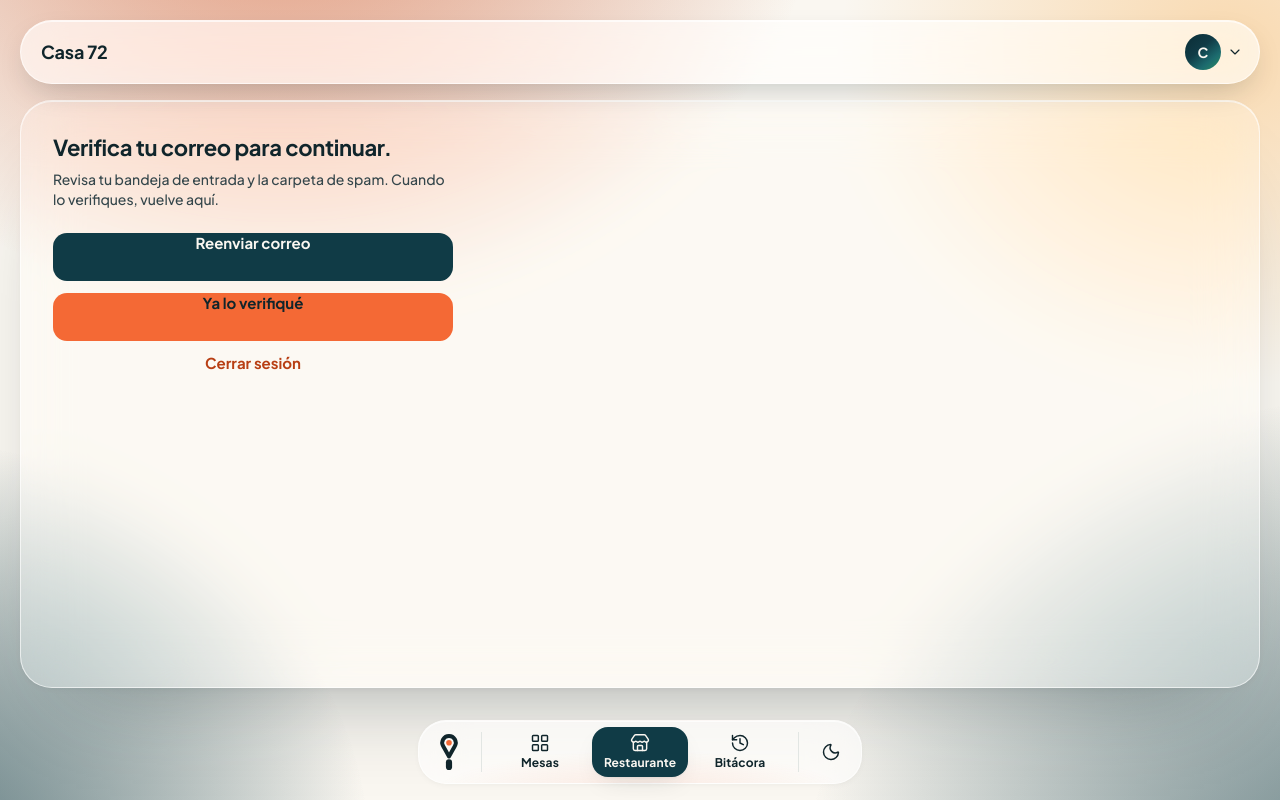
Test case: authentication routes › refreshes the Firebase session and clears the backend verification event
Click the button "Ya lo verifiqué" at (253, 302), box [53,293,453,341]
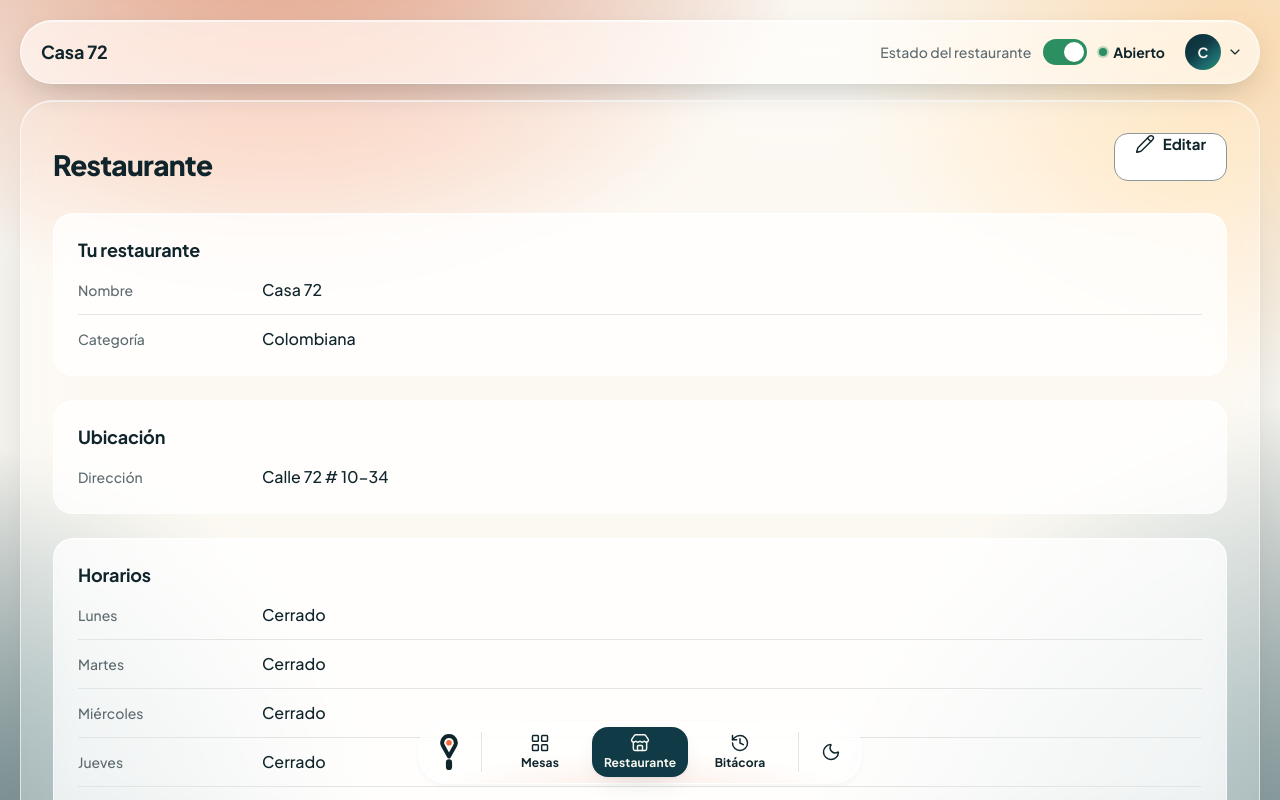
Check: the heading "Restaurante" is shown, box [53,149,212,181]
Check: the heading "Verifica tu correo para continuar." is gone
